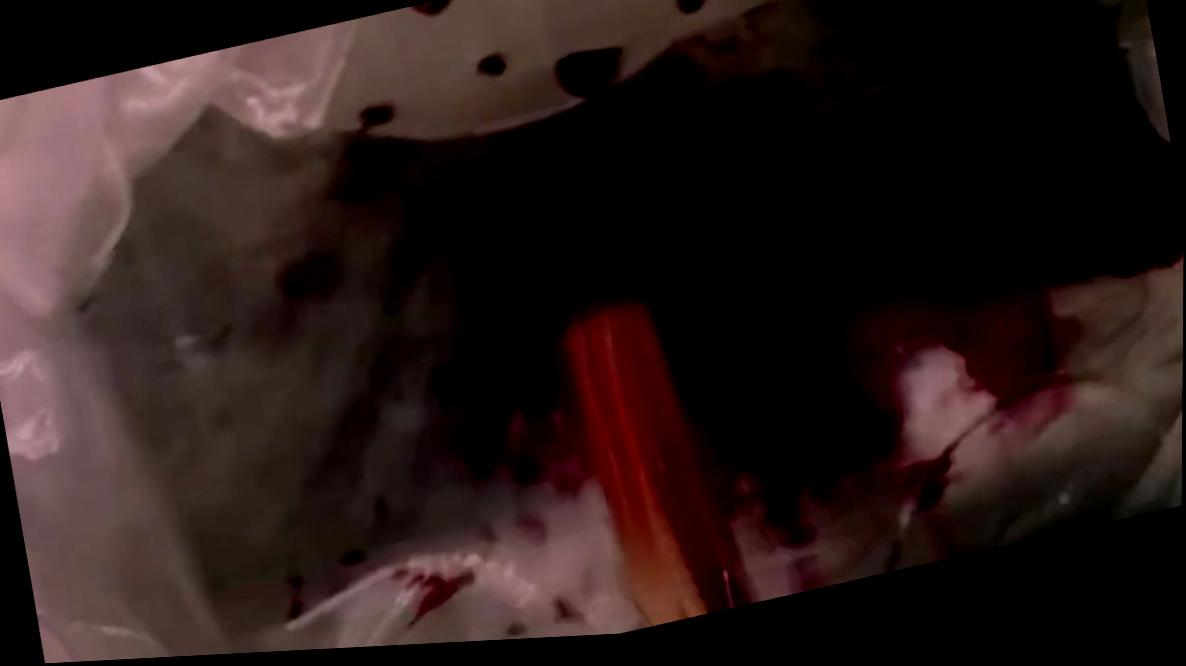Fire: (314, 0, 1184, 652)
